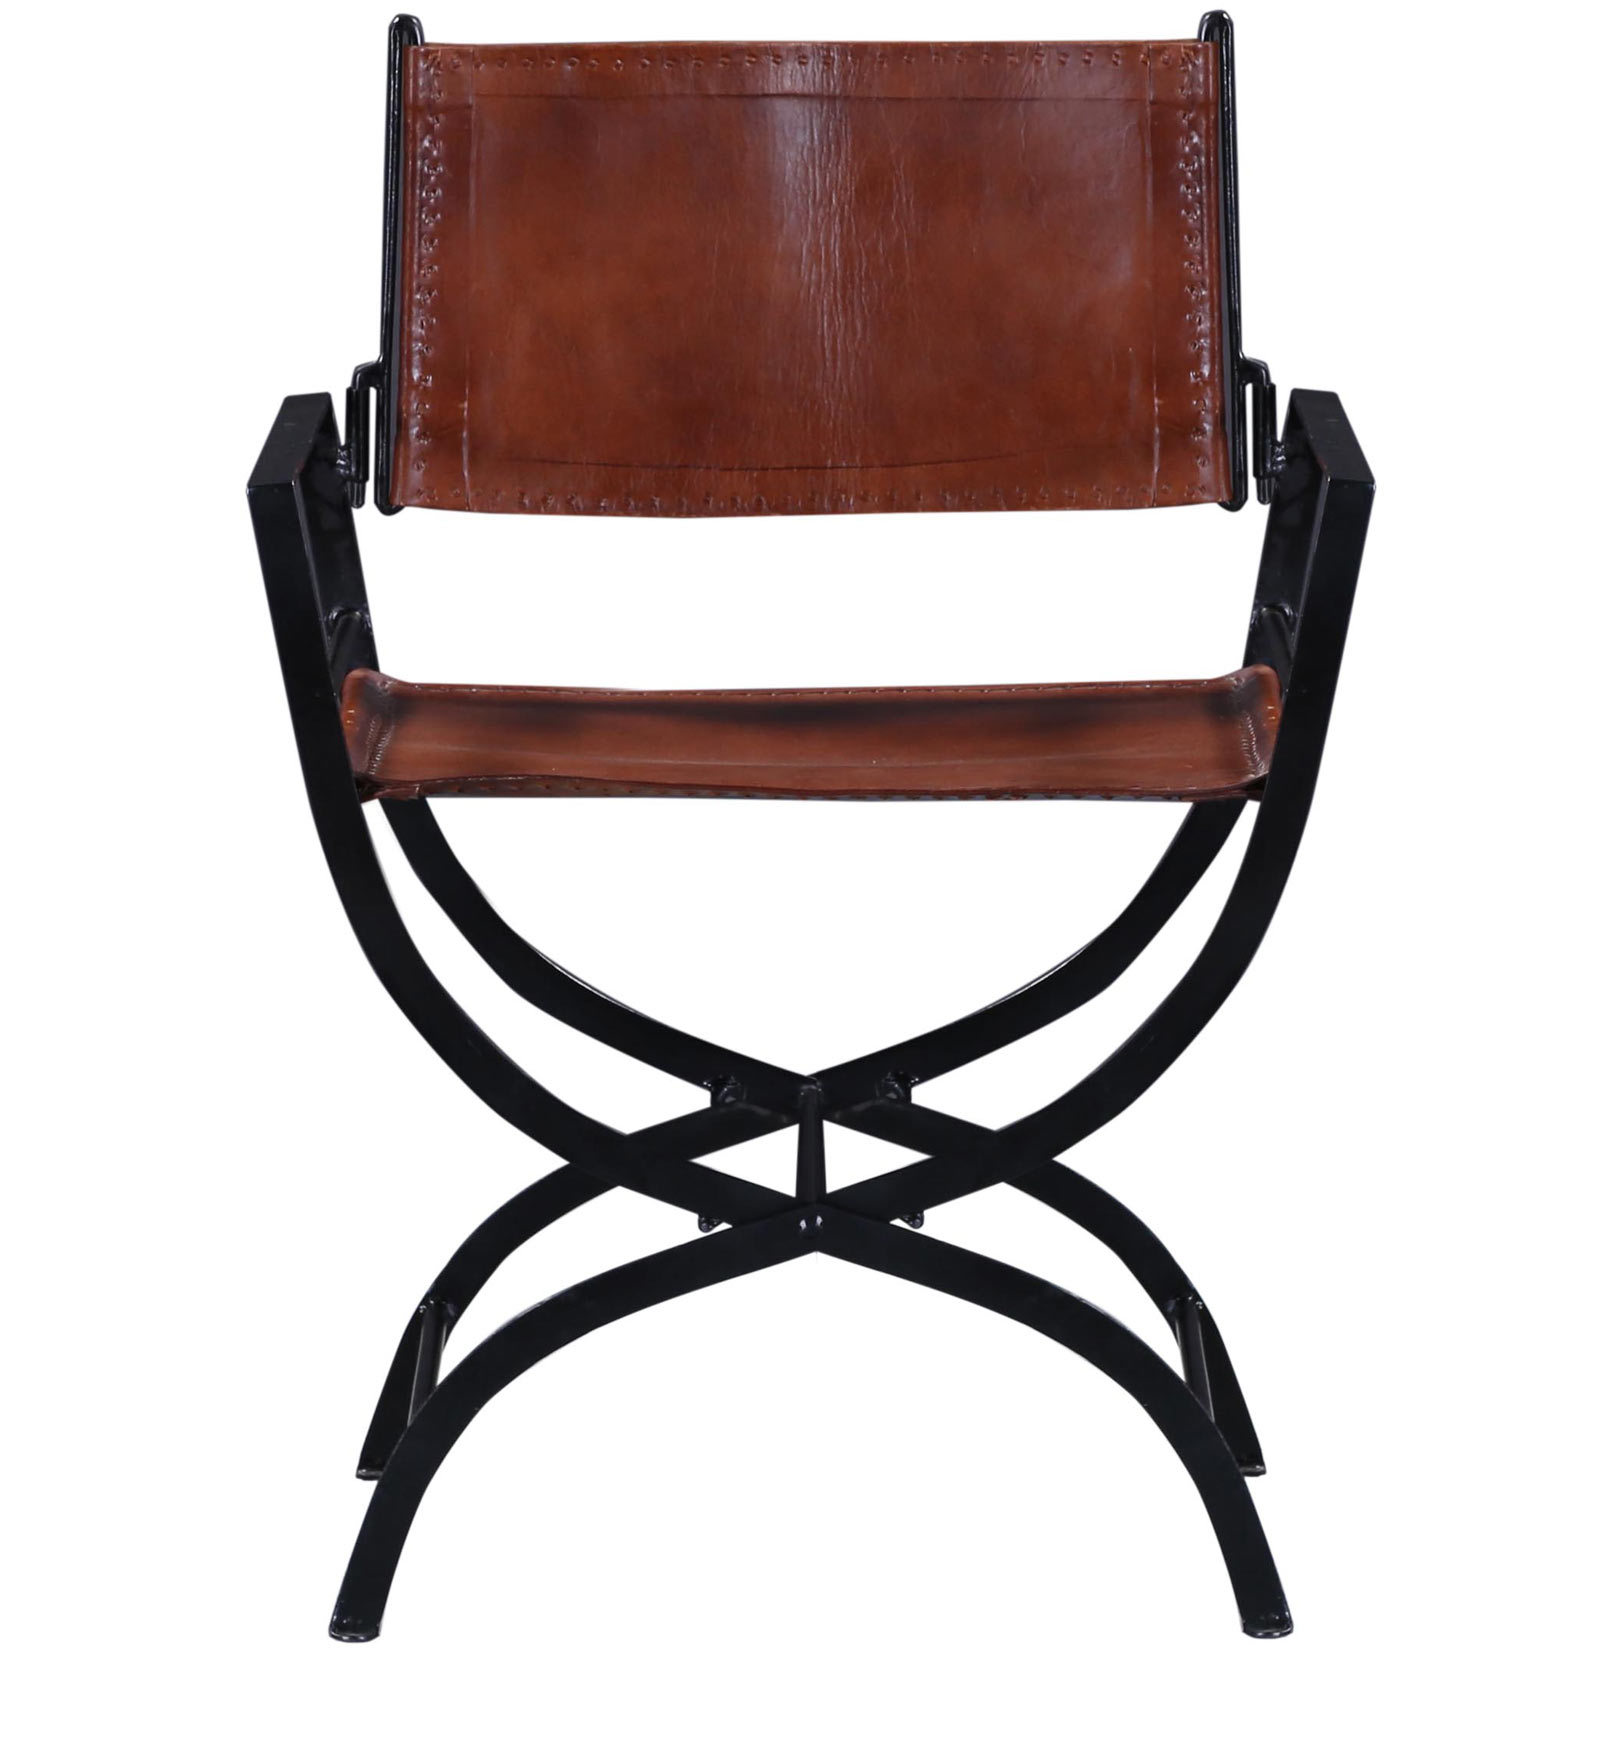Medina Metal & Leather Chair by Bohemiana: (239, 14, 1390, 1648)
